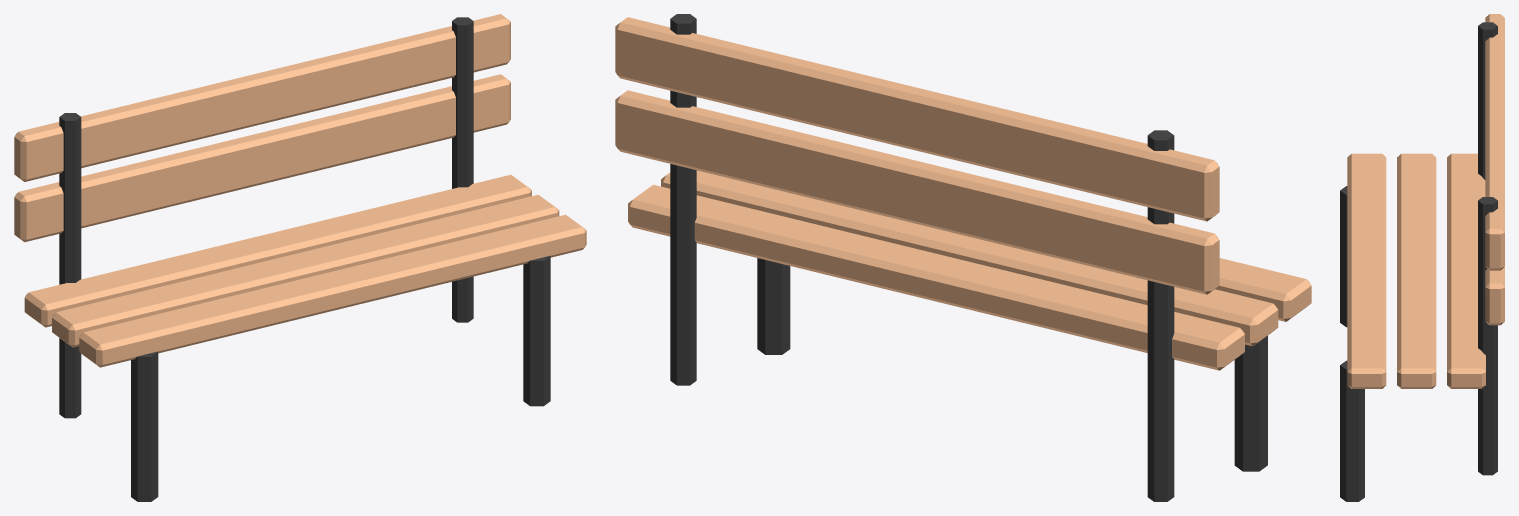
3 renders of one model, left to right at view 1: azimuth 30°, elevation 25°; view 2: azimuth 150°, elevation 25°; view 3: azimuth 270°, elevation 25°, orthographic. The views are drawn at different scales.
Visible parts, largest first — view 1: Back slat.001, Back slat, Seat slat, Seat slat.001, Seat slat.002, Back support, Back support.001, Front leg.001, Front leg; view 2: Back slat, Back slat.001, Seat slat.002, Seat slat.001, Back support, Back support.001, Front leg, Seat slat, Front leg.001; view 3: Seat slat, Seat slat.001, Seat slat.002, Back slat.001, Back support.001, Front leg.001, Back support, Back slat, Front leg.
Boxes of the visible parts, <box> form: Back slat.001: <box>14,14,510,181</box>; Back slat: <box>14,74,510,242</box>; Seat slat: <box>79,214,586,367</box>; Seat slat.001: <box>52,194,559,347</box>; Seat slat.002: <box>24,174,531,327</box>; Back support: <box>59,113,81,418</box>; Back support.001: <box>452,17,473,322</box>; Front leg.001: <box>523,256,550,406</box>; Front leg: <box>131,351,158,501</box>; Back slat: <box>615,90,1219,294</box>; Back slat.001: <box>615,17,1219,221</box>; Seat slat.002: <box>628,184,1244,370</box>; Seat slat.001: <box>661,170,1278,346</box>; Back support: <box>1147,130,1174,501</box>; Back support.001: <box>670,14,696,385</box>; Front leg: <box>1234,335,1267,471</box>; Seat slat: <box>1215,258,1311,321</box>; Front leg.001: <box>757,258,790,354</box>; Seat slat: <box>1347,153,1386,388</box>; Seat slat.001: <box>1397,153,1436,388</box>; Seat slat.002: <box>1447,153,1485,388</box>; Back slat.001: <box>1485,14,1504,270</box>; Back support.001: <box>1478,197,1497,475</box>; Front leg.001: <box>1340,360,1364,501</box>; Back support: <box>1478,22,1497,179</box>; Back slat: <box>1485,267,1504,325</box>; Front leg: <box>1340,186,1347,327</box>.
Bounding box in the file's own units: 145 × 92 × 46.25.
